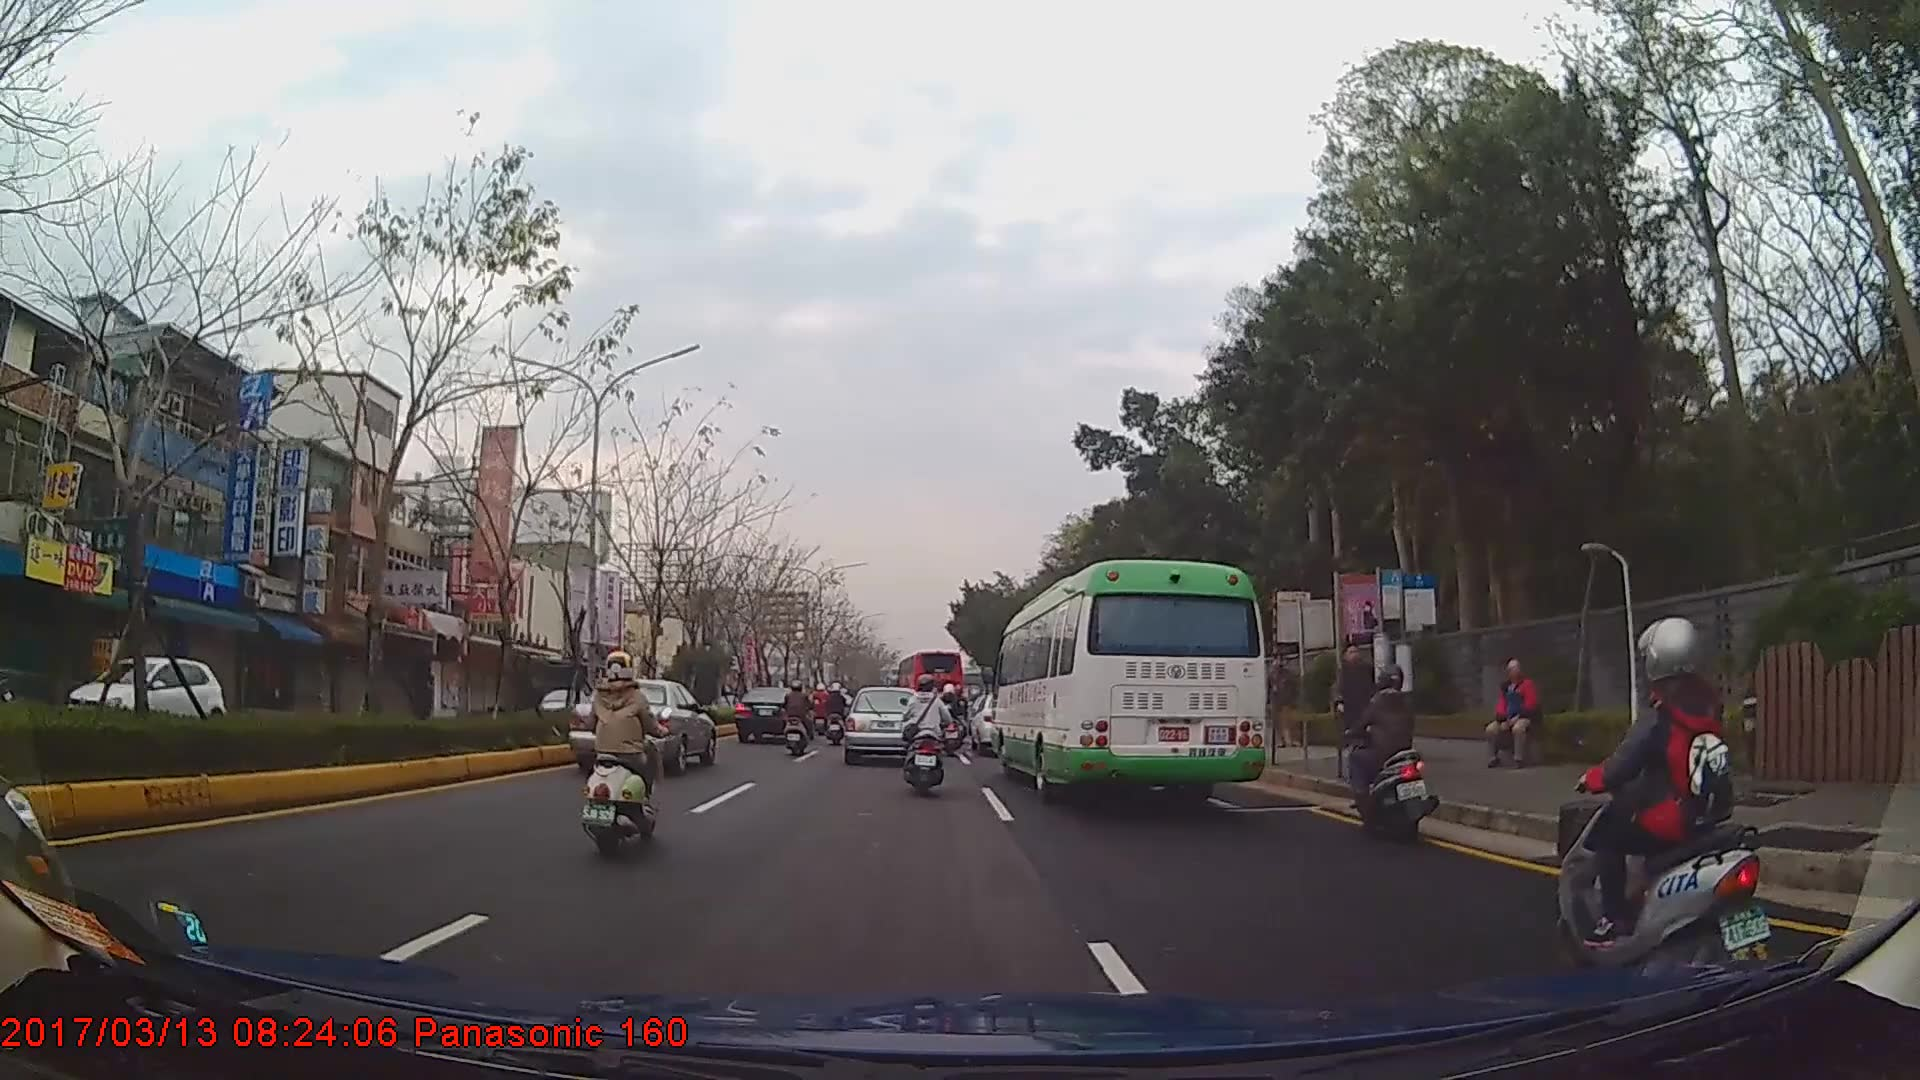pedestrian: (1332, 644, 1384, 784), (1487, 656, 1543, 771), (1267, 649, 1300, 750)
rider: (1558, 613, 1769, 975), (587, 648, 672, 857), (1342, 661, 1433, 846), (904, 675, 956, 795), (785, 679, 817, 757), (939, 681, 969, 739), (825, 683, 849, 745), (813, 683, 833, 736)
vehicle: (988, 558, 1267, 801), (57, 649, 228, 736), (567, 678, 715, 772), (840, 684, 925, 761), (898, 647, 968, 718), (734, 683, 813, 744)
